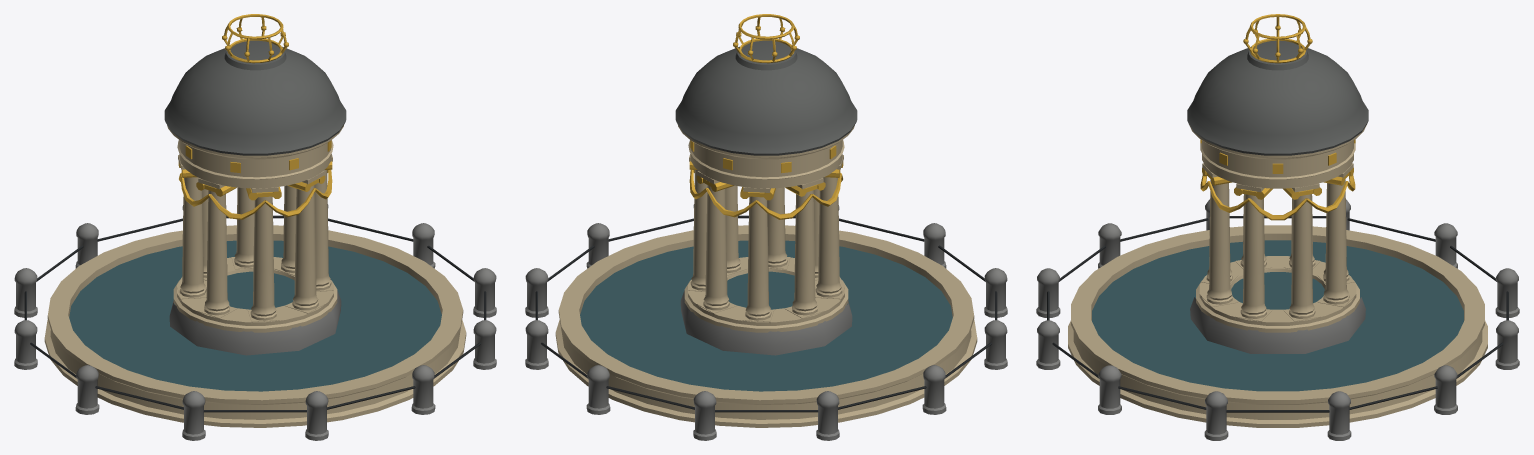
Rendered from mon_artesischer_brunnen.glb.
3 views of the same model, side by side, from view 1: azimuth 30°, elevation 25°; view 2: azimuth 150°, elevation 25°; view 3: azimuth 270°, elevation 25° (orthographic).
Parts seen in each view (by area): view 1: mon_artesischer_brunnen; view 2: mon_artesischer_brunnen; view 3: mon_artesischer_brunnen.
Boxes of the visible parts, bbox=[...] form: mon_artesischer_brunnen: bbox=[14, 14, 496, 440]; mon_artesischer_brunnen: bbox=[525, 14, 1007, 440]; mon_artesischer_brunnen: bbox=[1036, 14, 1519, 440].
Bounding box in the file's own units: 10.85 × 7.79 × 10.88.
